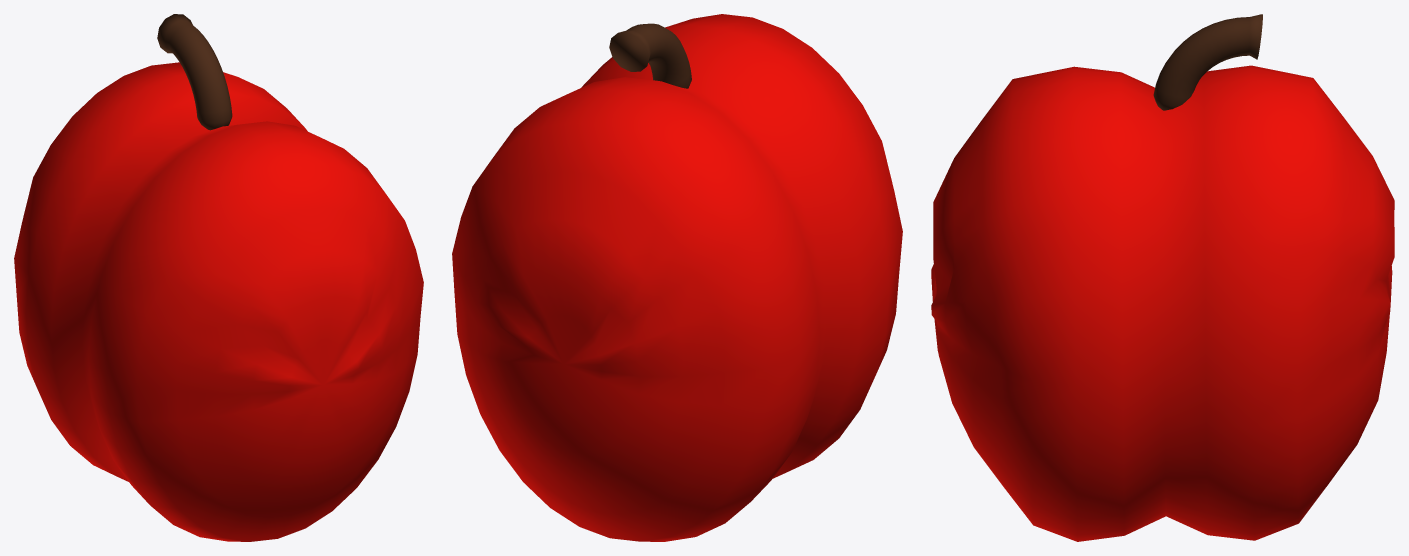
Rendered from Apple.fbx.
The picture shows the model from 3 angles, left to right: view 1: azimuth 30°, elevation 25°; view 2: azimuth 150°, elevation 25°; view 3: azimuth 270°, elevation 25°; orthographic projection. The views are drawn at different scales.
Visible parts, largest first — view 1: Apple; view 2: Apple; view 3: Apple.
Boxes of the visible parts, <box> form: Apple: <box>14,14,423,541</box>; Apple: <box>452,14,902,541</box>; Apple: <box>931,14,1394,541</box>.
Size of the model in its own units: 501 by 726 by 596.
